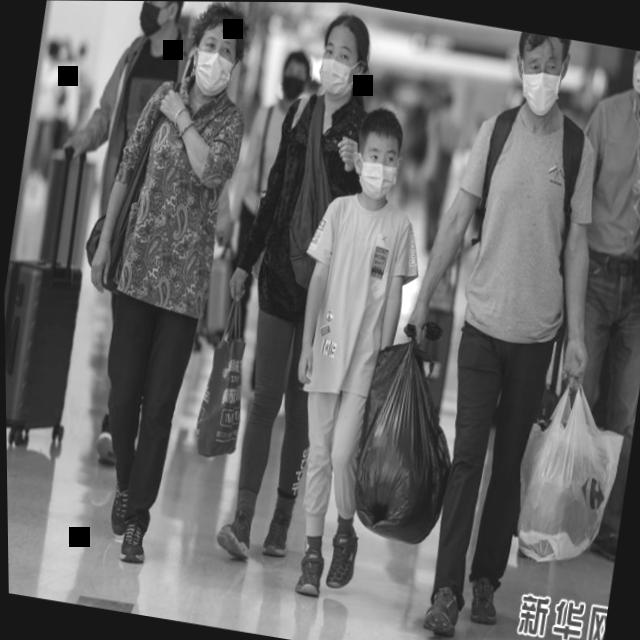Mask: (176, 1, 258, 110), (343, 101, 414, 210), (307, 2, 376, 106), (504, 30, 578, 121), (271, 40, 317, 108), (128, 1, 189, 46), (618, 48, 640, 106)
